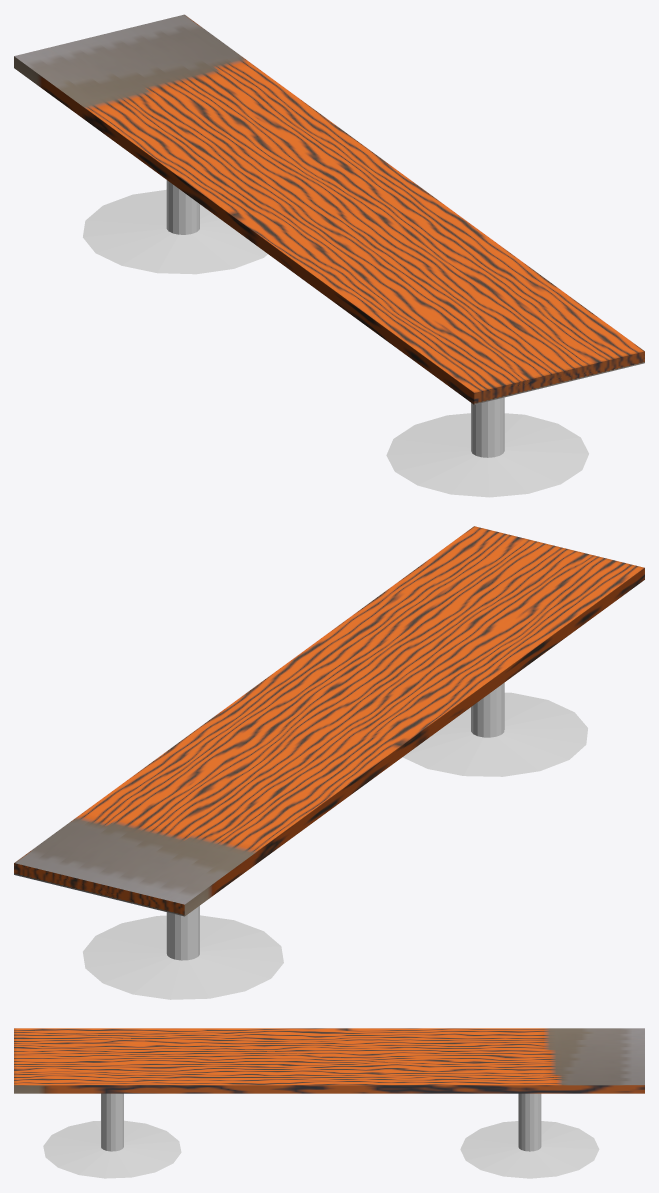
File: Long_Table.fbx
3 renders of one model, top to bottom at view 1: azimuth 30°, elevation 25°; view 2: azimuth 150°, elevation 25°; view 3: azimuth 270°, elevation 25°, orthographic. The views are drawn at different scales.
Parts seen in each view (by area): view 1: Cube; view 2: Cube; view 3: Cube.
Boxes of the visible parts, bbox=[...] form: Cube: bbox=[14, 14, 644, 497]; Cube: bbox=[14, 526, 644, 999]; Cube: bbox=[14, 1028, 644, 1178].
Size of the model in its own units: 309 by 227 by 1400.
2 materials, 1 textured.
